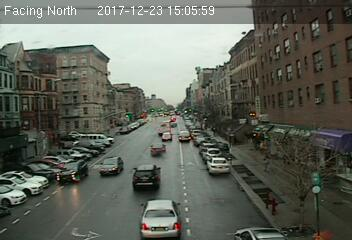car: (139, 197, 183, 237), (56, 160, 90, 185), (131, 164, 161, 190), (99, 156, 123, 175), (208, 156, 229, 175), (149, 143, 166, 154), (178, 129, 191, 142), (161, 131, 172, 140)
